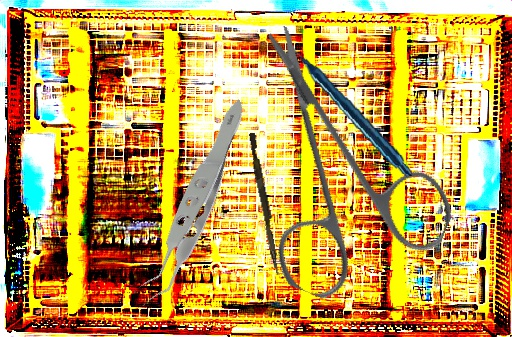Handpiece: (289, 22, 413, 188)
Iris Scissors: (185, 22, 494, 332)
Pusher: (245, 132, 285, 276)
Tissue Forceps: (72, 97, 307, 311)
